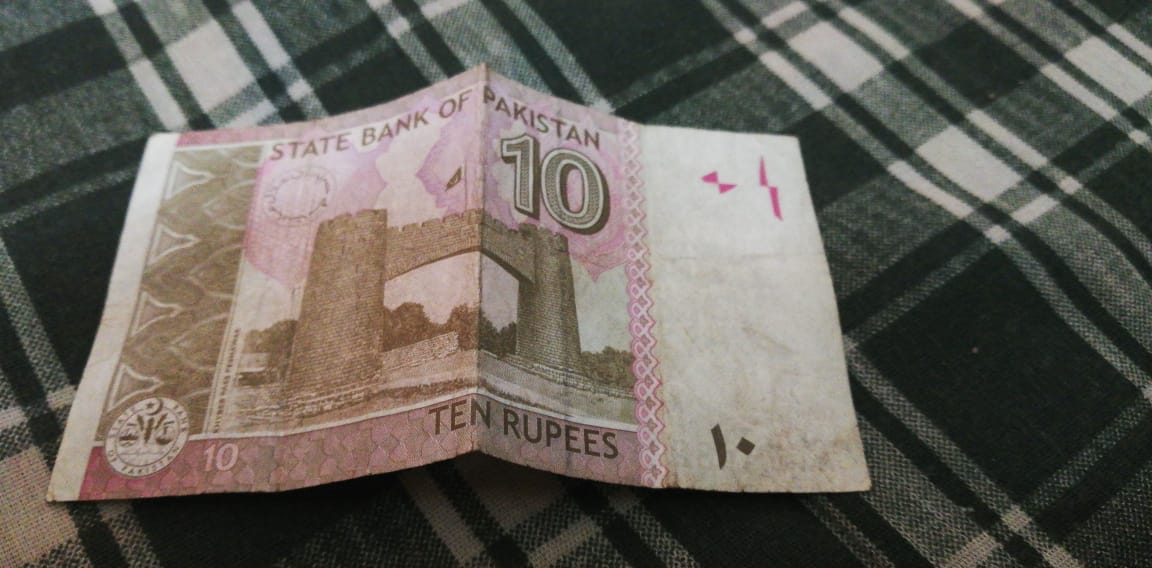10 rupee: (41, 61, 882, 495)
